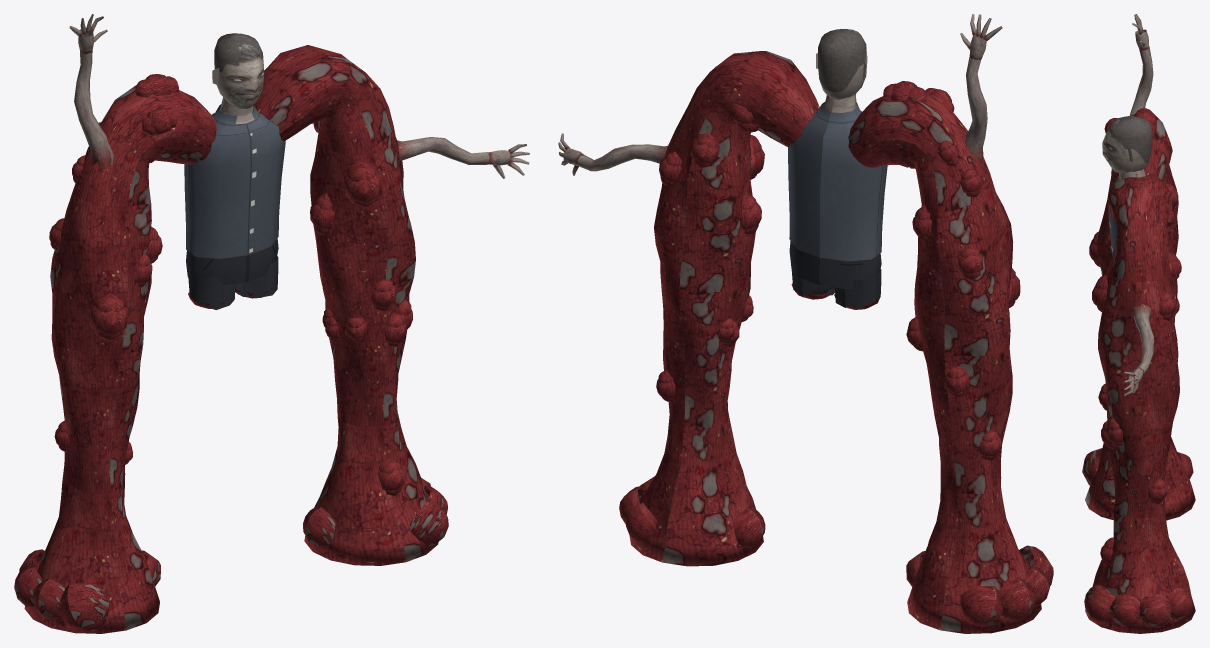
The model's file is brute_twoarm_m02_legless.glb.
3 renders of one model, left to right at view 1: azimuth 30°, elevation 25°; view 2: azimuth 150°, elevation 25°; view 3: azimuth 270°, elevation 25°, orthographic. The views are drawn at different scales.
Parts seen in each view (by area): view 1: brute_twoarm_m02_legless; view 2: brute_twoarm_m02_legless; view 3: brute_twoarm_m02_legless.
Boxes of the visible parts, bbox=[...] form: brute_twoarm_m02_legless: bbox=[14, 14, 529, 633]; brute_twoarm_m02_legless: bbox=[558, 14, 1053, 633]; brute_twoarm_m02_legless: bbox=[1082, 14, 1195, 633].
Size of the model in its own units: 2.68 by 3.16 by 0.6561.
1 material, 1 textured.
